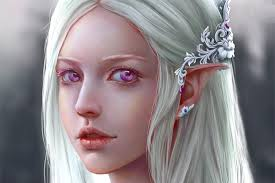e.other: (69, 73, 80, 84)
